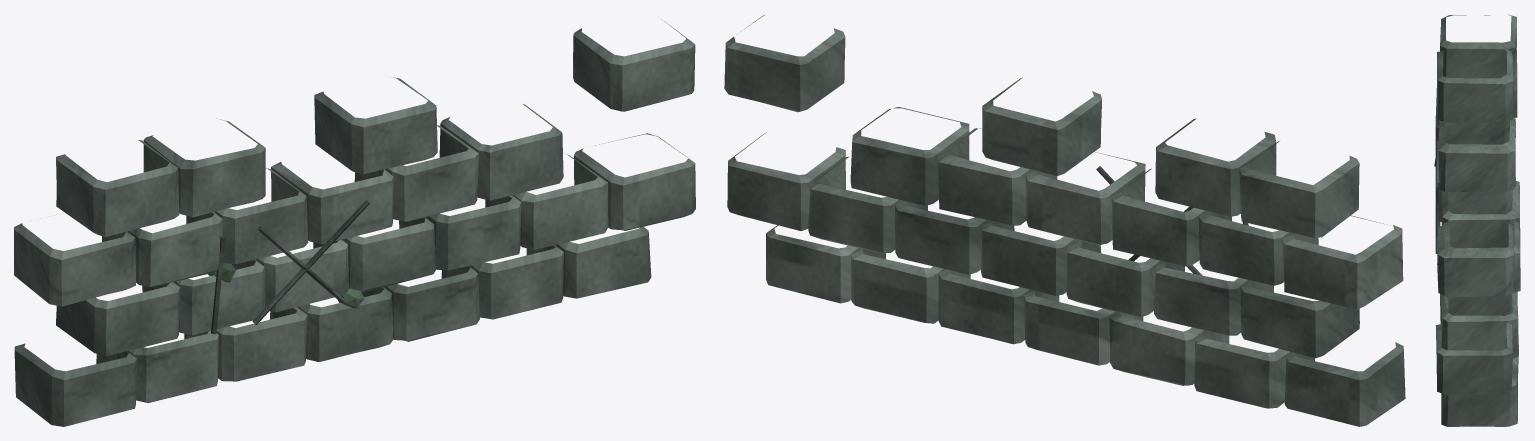
File: 0340_wall_section_15.glb
3 views of the same model, side by side, from view 1: azimuth 30°, elevation 25°; view 2: azimuth 150°, elevation 25°; view 3: azimuth 270°, elevation 25° (orthographic). The views are drawn at different scales.
Visible parts, largest first — view 1: stone, iron; view 2: stone; view 3: stone, iron.
Boxes of the visible parts, x1,y1,x2,y2 form: stone: [14, 19, 695, 426]; iron: [211, 200, 369, 334]; stone: [724, 15, 1405, 426]; stone: [1435, 14, 1520, 426]; iron: [1435, 125, 1440, 253].
Size of the model in its own units: 4.3 by 1.5 by 0.6035.
Materials: 3 (3 with a texture image).
